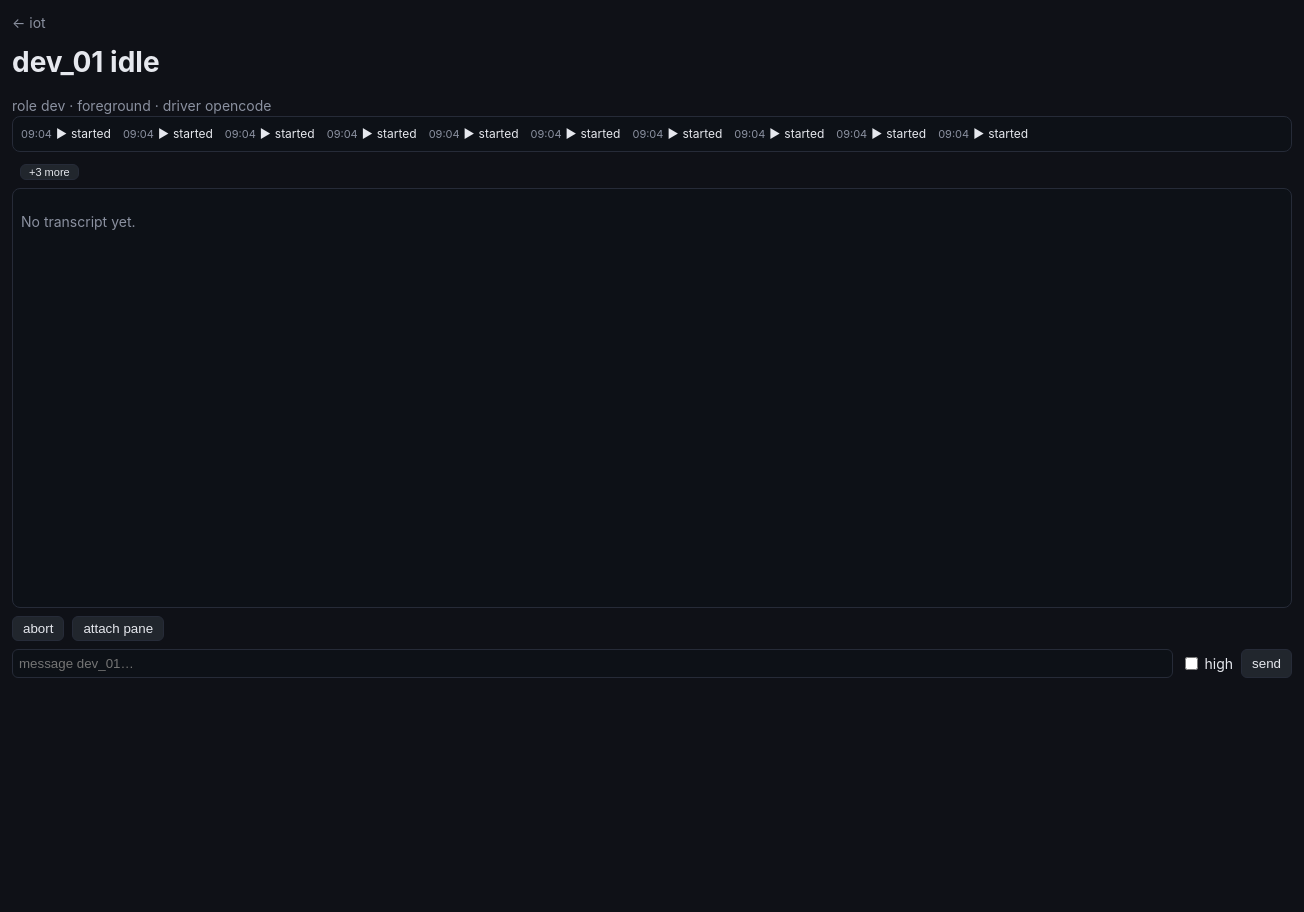
Test: activity feed › shows the last 10 ticks and expands to the older ones
This screenshot has width=1304, height=912.
Click the button "+3 more": click(49, 172) [20,164,79,180]
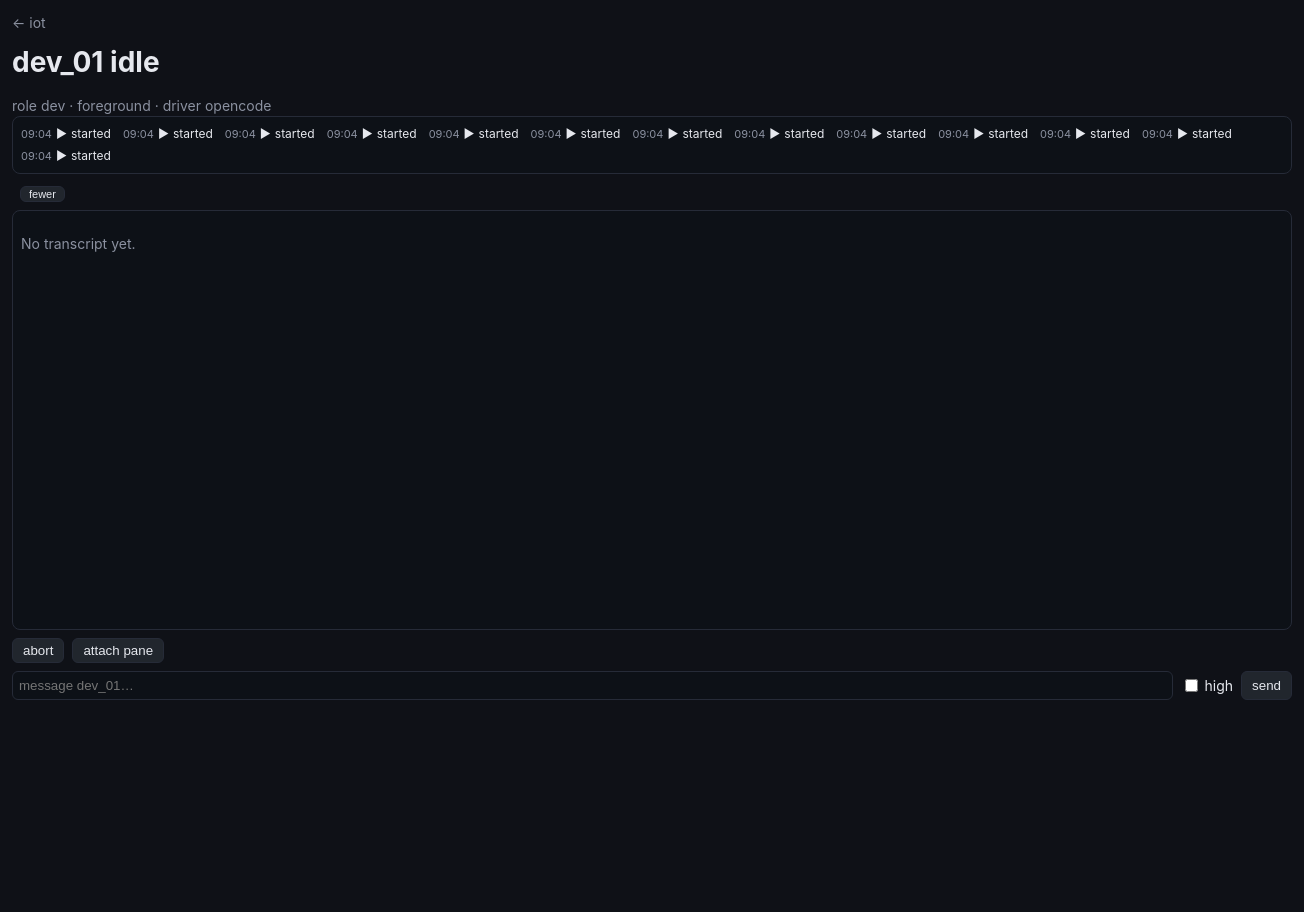
expect the number of elements with class "feed-tick" is 13: met
expect the button "fewer" is shown: met, box [20,186,65,202]
